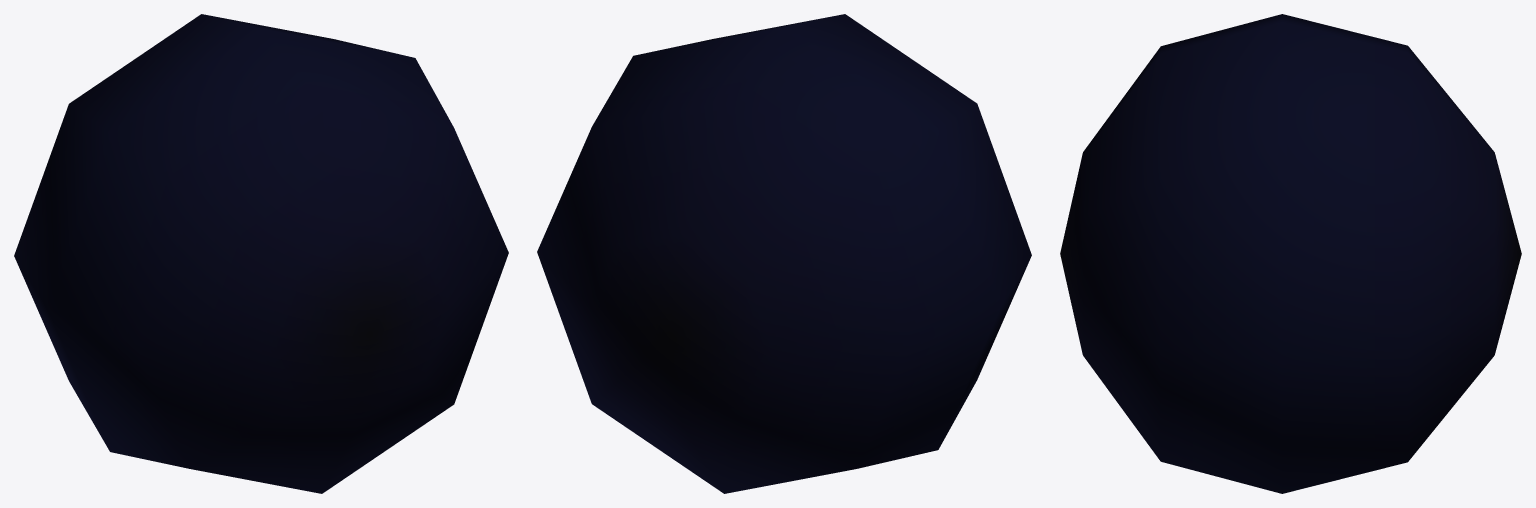
The model's file is Blackberry_Regular.fbx.
The picture shows the model from 3 angles, left to right: view 1: azimuth 30°, elevation 25°; view 2: azimuth 150°, elevation 25°; view 3: azimuth 270°, elevation 25°; orthographic projection. The views are drawn at different scales.
Parts seen in each view (by area): view 1: Blackberry_Regular; view 2: Blackberry_Regular; view 3: Blackberry_Regular.
Part boxes in pixels (bbox=[...]): Blackberry_Regular: bbox=[14, 14, 508, 493]; Blackberry_Regular: bbox=[537, 14, 1031, 493]; Blackberry_Regular: bbox=[1060, 14, 1521, 493].
Size of the model in its own units: 10.24 by 10.24 by 9.26.
